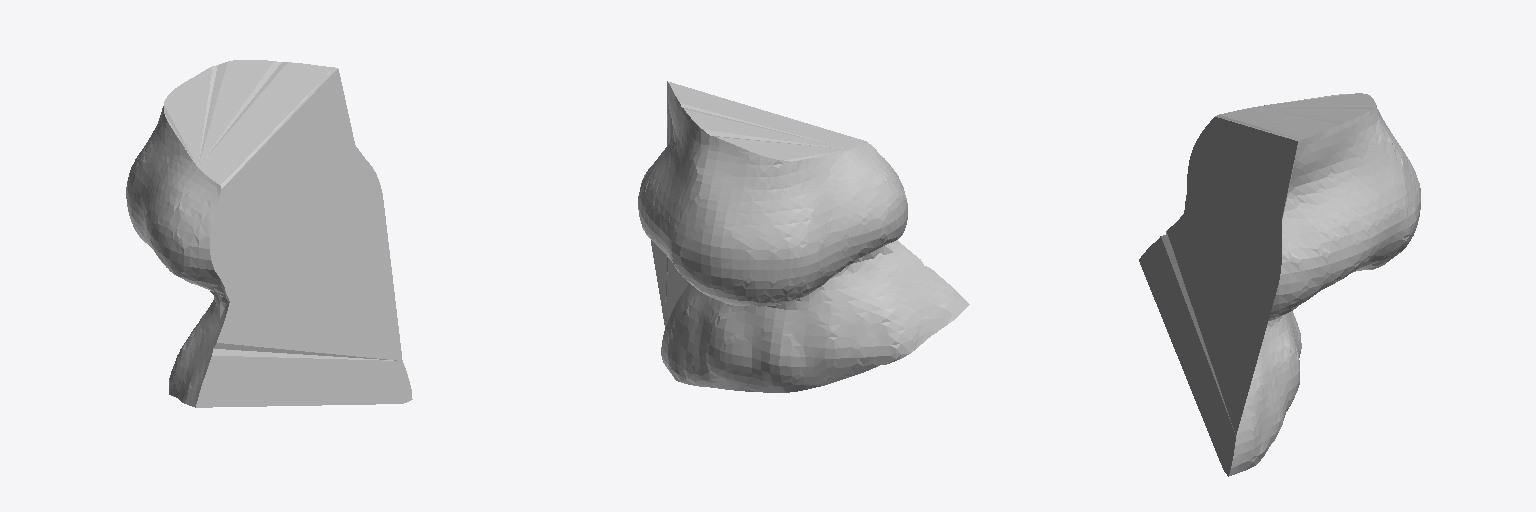
File: low_cell_049.obj
3 views of the same model, side by side, from view 1: azimuth 30°, elevation 25°; view 2: azimuth 150°, elevation 25°; view 3: azimuth 270°, elevation 25° (orthographic).
Parts seen in each view (by area): view 1: low_cell.049_low_cell.048; view 2: low_cell.049_low_cell.048; view 3: low_cell.049_low_cell.048.
Boxes of the visible parts, x1,y1,x2,y2 form: low_cell.049_low_cell.048: [126, 60, 412, 407]; low_cell.049_low_cell.048: [638, 81, 969, 392]; low_cell.049_low_cell.048: [1139, 93, 1420, 476].
Size of the model in its own units: 0.5515 by 0.639 by 0.5147.